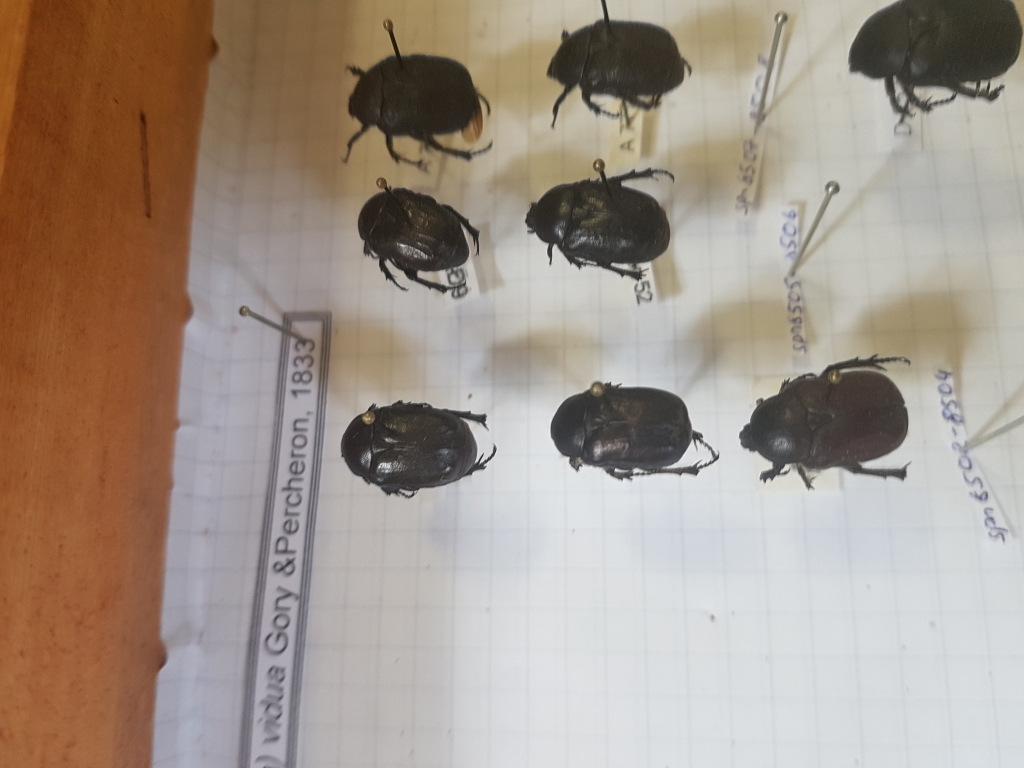Protaetia_vidua: (745, 348, 951, 502), (544, 372, 742, 488), (520, 156, 688, 290), (338, 394, 519, 505)
